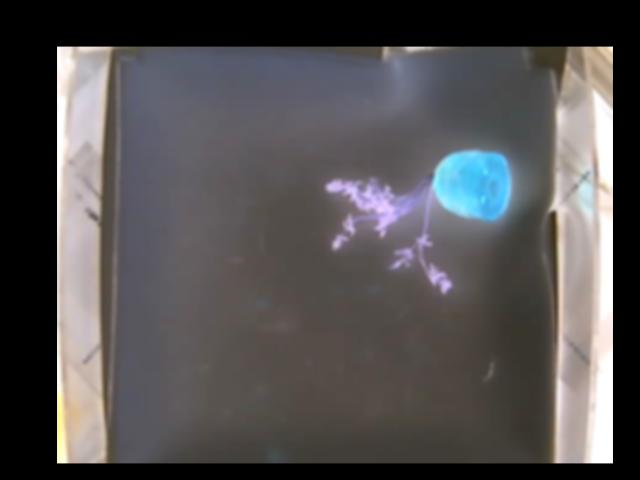Carrot: (321, 150, 510, 294)
